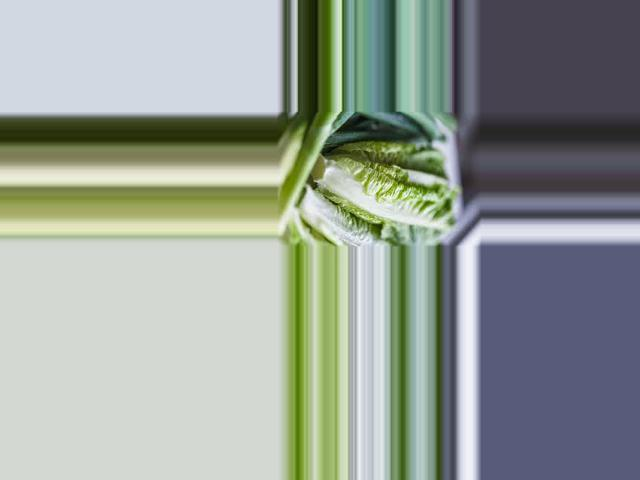lettuce: (318, 125, 473, 252)
